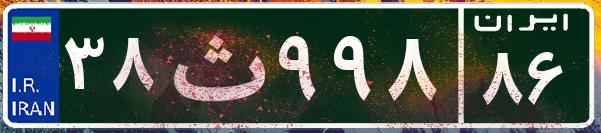3: (57, 26, 110, 107)
6: (525, 38, 570, 115)
8: (385, 28, 445, 110), (475, 38, 525, 113), (110, 28, 158, 105)
9: (273, 28, 330, 110), (330, 28, 385, 110)
ث: (158, 15, 273, 115)
